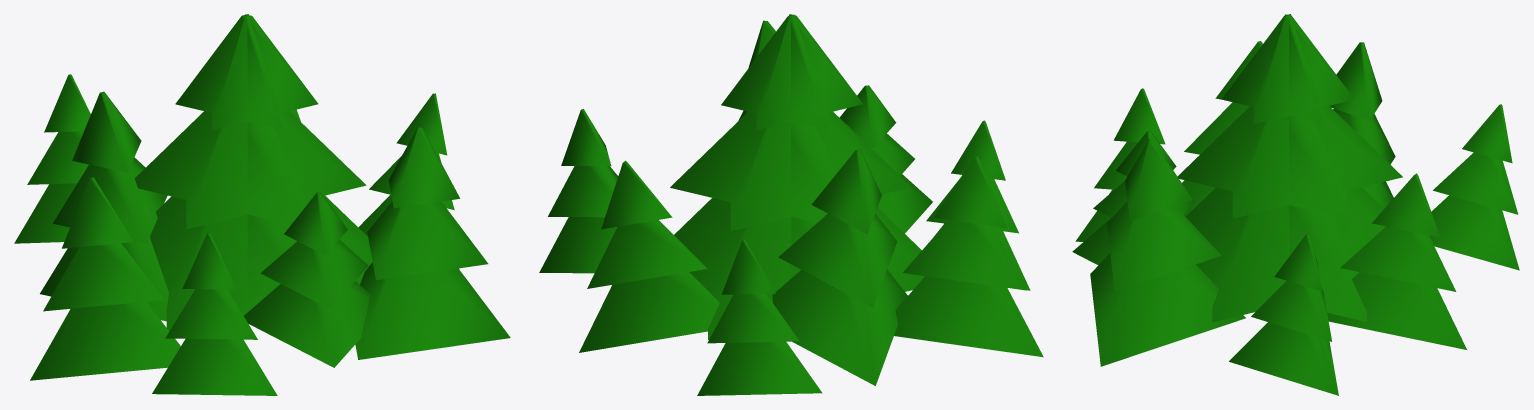
The model's file is Trees.fbx.
3 renders of one model, left to right at view 1: azimuth 30°, elevation 25°; view 2: azimuth 150°, elevation 25°; view 3: azimuth 270°, elevation 25°, orthographic. The views are drawn at different scales.
Parts seen in each view (by area): view 1: Cylinder.001; view 2: Cylinder.001; view 3: Cylinder.001.
Part boxes in pixels (box(x1,y1,x2,y2)): Cylinder.001: box(14, 14, 510, 395); Cylinder.001: box(539, 14, 1043, 395); Cylinder.001: box(1072, 14, 1519, 395).
Bounding box in the file's own units: 151 × 92.81 × 135.
